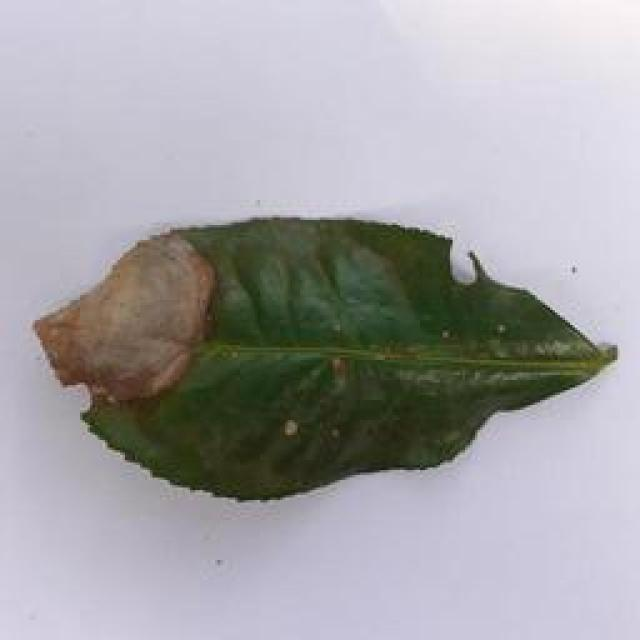Gray Blight: (27, 211, 622, 507)
